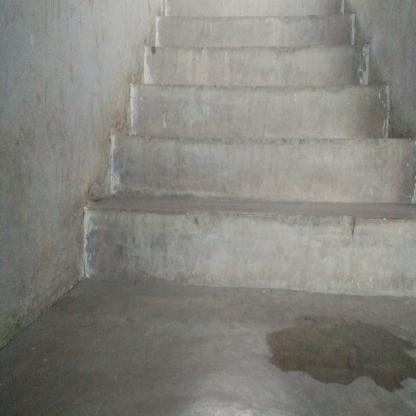stairs: (110, 85, 390, 293)
